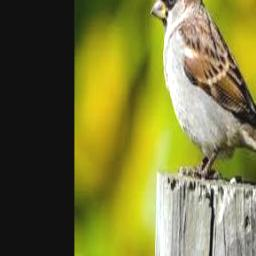Sparrow: (151, 0, 256, 185)
